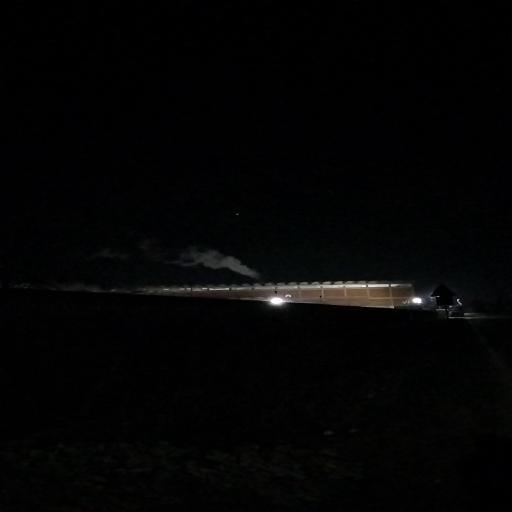leakage: (143, 242, 270, 284)
